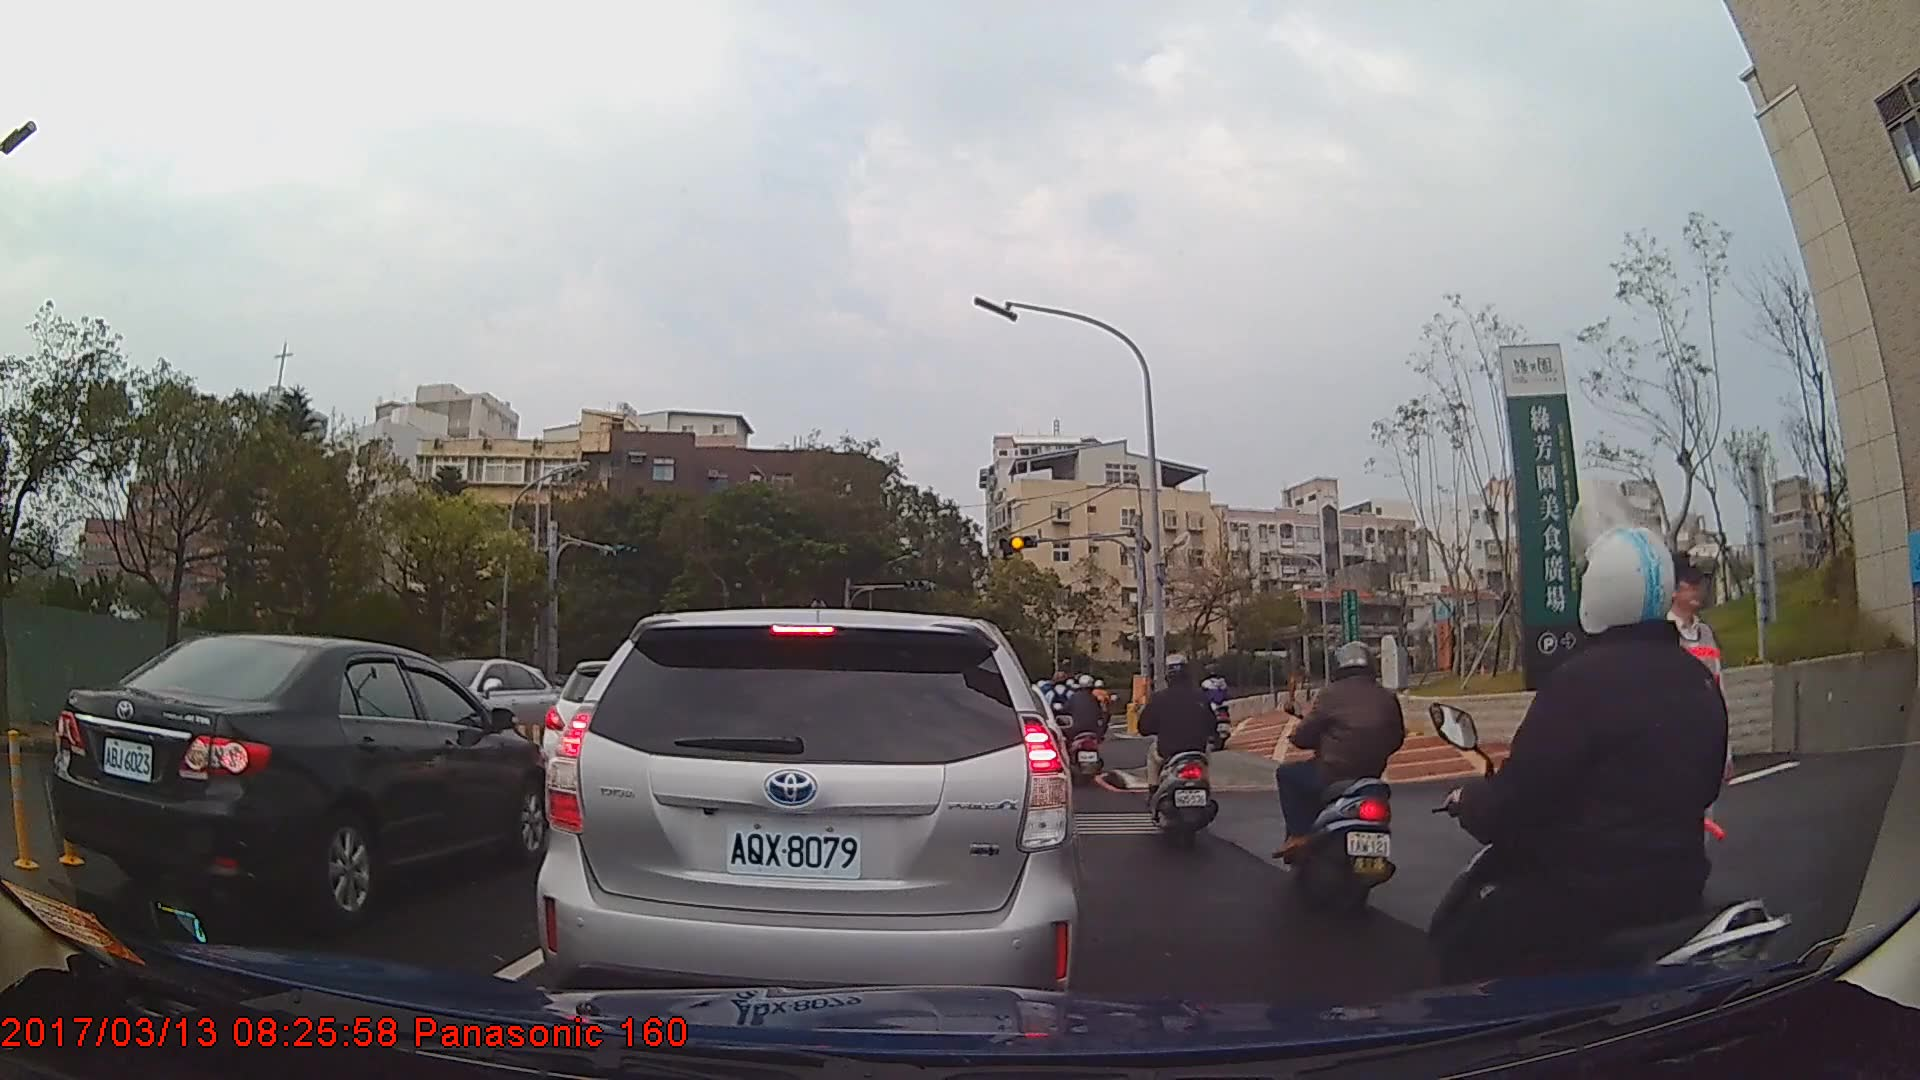rider: (1413, 521, 1802, 1078), (1274, 641, 1408, 919), (1138, 648, 1222, 853), (1067, 674, 1108, 789), (1198, 663, 1234, 754), (1084, 676, 1115, 742)
vehicle: (535, 606, 1079, 1024), (51, 631, 555, 921), (419, 658, 556, 752)
